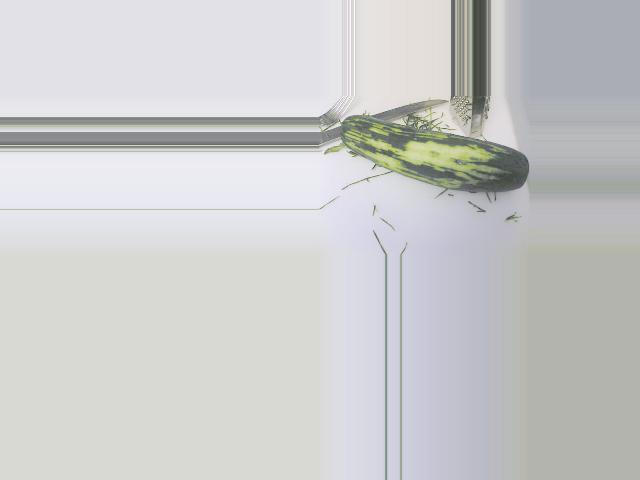cucumber: (339, 114, 528, 193)
